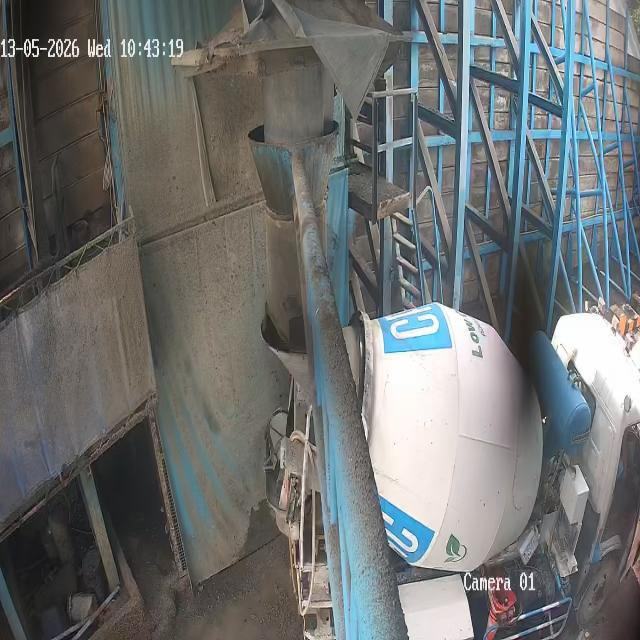cement_mixer_truck: (261, 302, 640, 640)
swing_chute: (251, 127, 339, 310)
